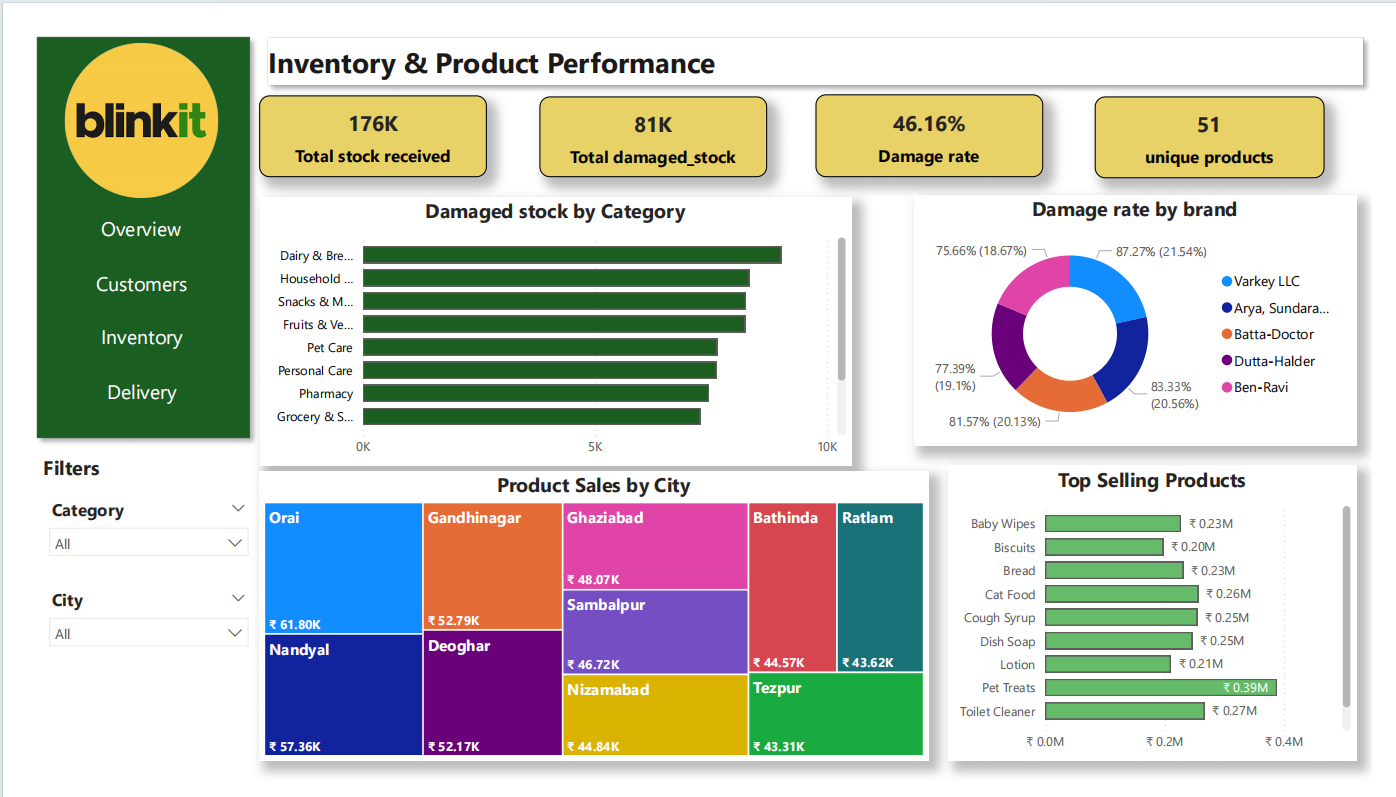

The page's visual inventory and layout, read from the dashboard file:
{"tool":"powerbi","page":{"name":"Page 3","canvas":[1280,720],"ordinal":2},"visuals":[{"type":"shape","box":[0,0,219.9,399.2],"z":0},{"type":"image","box":[12.5,14.6,190.3,146.4],"z":1000},{"type":"actionButton","box":[13,161,190.3,58.6],"z":2000},{"type":"actionButton","box":[13,212.7,190.6,58.7],"z":3000},{"type":"actionButton","box":[13,264.4,190.6,58.7],"z":4000},{"type":"actionButton","box":[13,316.1,190.6,58.7],"z":5000},{"type":"shape","title":"Executive Overview Dashboard","box":[219.6,0,1060.4,62.7],"z":6000},{"type":"slicer","title":"Category","fields":{"Values":["Customers.City"]},"box":[9.8,443.1,210.2,86.3],"z":7000},{"type":"textbox","box":[9.8,400.8,210.2,42.4],"z":8000},{"type":"slicer","title":"Category","fields":{"Values":["Customers.customer_segment"]},"box":[9.8,529.5,210.2,86.3],"z":9000},{"type":"card","fields":{"Values":["Dax measures.Total stock received"]},"box":[219.5,63.6,217.9,77.9],"z":10001},{"type":"card","fields":{"Values":["Dax measures.Total damaged_stock"]},"box":[486.7,64.6,217.4,77.2],"z":10002},{"type":"card","fields":{"Values":["Dax measures.Damage rate"]},"box":[749.7,63,217.4,78.8],"z":10003},{"type":"card","fields":{"Values":["Dax measures.unique products"]},"box":[1015.9,64.6,218.9,78.8],"z":10004},{"type":"clusteredBarChart","title":"Damaged stock by Category","fields":{"Category":["Products.category"],"Y":["Dax measures.Total damaged_stock"]},"box":[220.5,160.7,563.9,256.7],"z":10005},{"type":"donutChart","fields":{"Category":["Products.brand"],"Y":["Dax measures.Damage rate"]},"box":[844.2,159.1,420.5,239.4],"z":10006},{"type":"clusteredBarChart","title":"Top Selling Products","fields":{"Category":["Products.product_name"],"Y":["Dax measures.Total revenue"]},"box":[877.3,417.4,387.5,280.4],"z":10007},{"type":"treemap","title":"Product Sales by City","fields":{"Group":["Customers.City"],"Values":["Dax measures.Total revenue"]},"box":[220,421.7,638.3,276.7],"z":10008}]}

Visuals, with their boxes in screenshot pixels (x1, y1, x2, y2), scaled from the page's 1280x720 canvas onto the 1396x797 screenshot:
shape: {"x1": 0, "y1": 0, "x2": 240, "y2": 442}
image: {"x1": 14, "y1": 16, "x2": 221, "y2": 178}
actionButton: {"x1": 14, "y1": 178, "x2": 222, "y2": 243}
actionButton: {"x1": 14, "y1": 235, "x2": 222, "y2": 300}
actionButton: {"x1": 14, "y1": 293, "x2": 222, "y2": 358}
actionButton: {"x1": 14, "y1": 350, "x2": 222, "y2": 415}
"Executive Overview Dashboard" shape: {"x1": 240, "y1": 0, "x2": 1395, "y2": 69}
"Category" slicer: {"x1": 11, "y1": 490, "x2": 240, "y2": 586}
textbox: {"x1": 11, "y1": 444, "x2": 240, "y2": 491}
"Category" slicer: {"x1": 11, "y1": 586, "x2": 240, "y2": 682}
card - Dax measures.Total stock received: {"x1": 239, "y1": 70, "x2": 477, "y2": 157}
card - Dax measures.Total damaged_stock: {"x1": 531, "y1": 72, "x2": 768, "y2": 157}
card - Dax measures.Damage rate: {"x1": 818, "y1": 70, "x2": 1055, "y2": 157}
card - Dax measures.unique products: {"x1": 1108, "y1": 72, "x2": 1347, "y2": 159}
"Damaged stock by Category" clusteredBarChart: {"x1": 240, "y1": 178, "x2": 855, "y2": 462}
donutChart - Products.brand x Dax measures.Damage rate: {"x1": 921, "y1": 176, "x2": 1379, "y2": 441}
"Top Selling Products" clusteredBarChart: {"x1": 957, "y1": 462, "x2": 1379, "y2": 772}
"Product Sales by City" treemap: {"x1": 240, "y1": 467, "x2": 936, "y2": 773}
